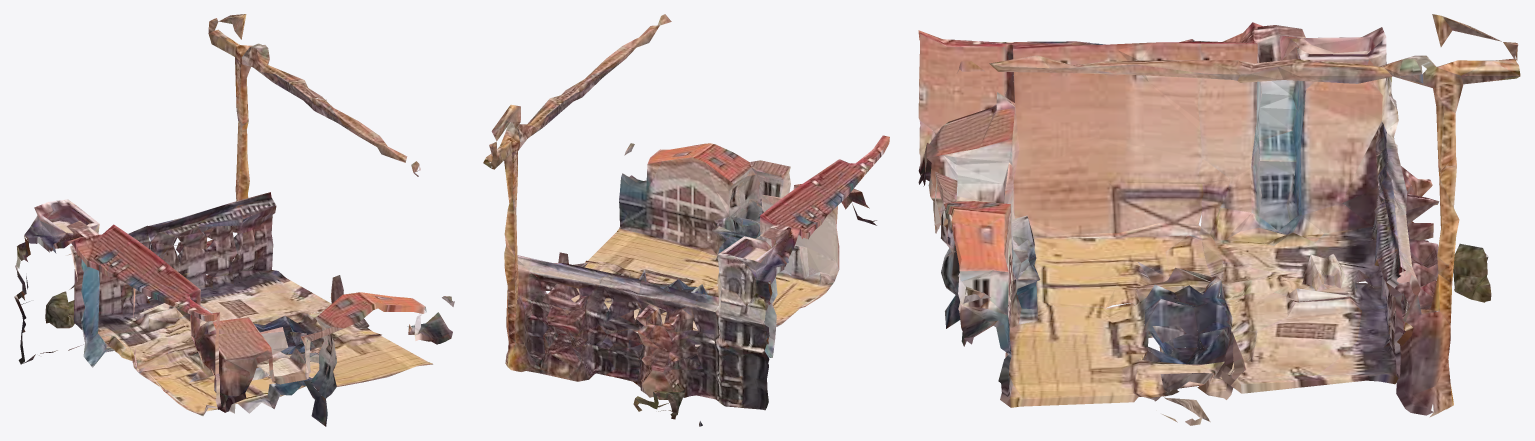
3 views of the same model, side by side, from view 1: azimuth 30°, elevation 25°; view 2: azimuth 150°, elevation 25°; view 3: azimuth 270°, elevation 25° (orthographic). The views are drawn at different scales.
Parts seen in each view (by area): view 1: Mesh_0; view 2: Mesh_0; view 3: Mesh_0.
Part boxes in pixels (bbox=[...]): Mesh_0: bbox=[14, 14, 454, 426]; Mesh_0: bbox=[483, 14, 889, 426]; Mesh_0: bbox=[918, 14, 1520, 425].
Bounding box in the file's own units: 33.17 × 30.13 × 41.37.
Materials: 2 (2 with a texture image).
